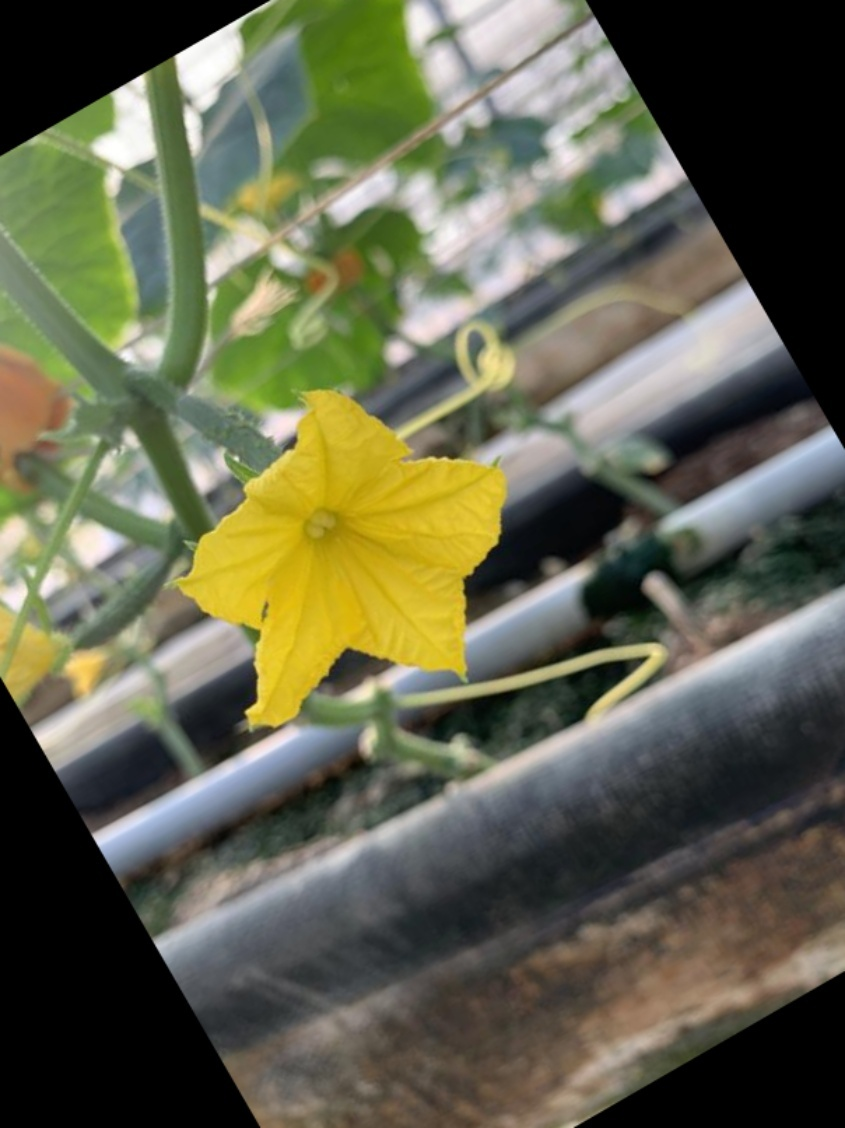flowering: (104, 367, 513, 736)
